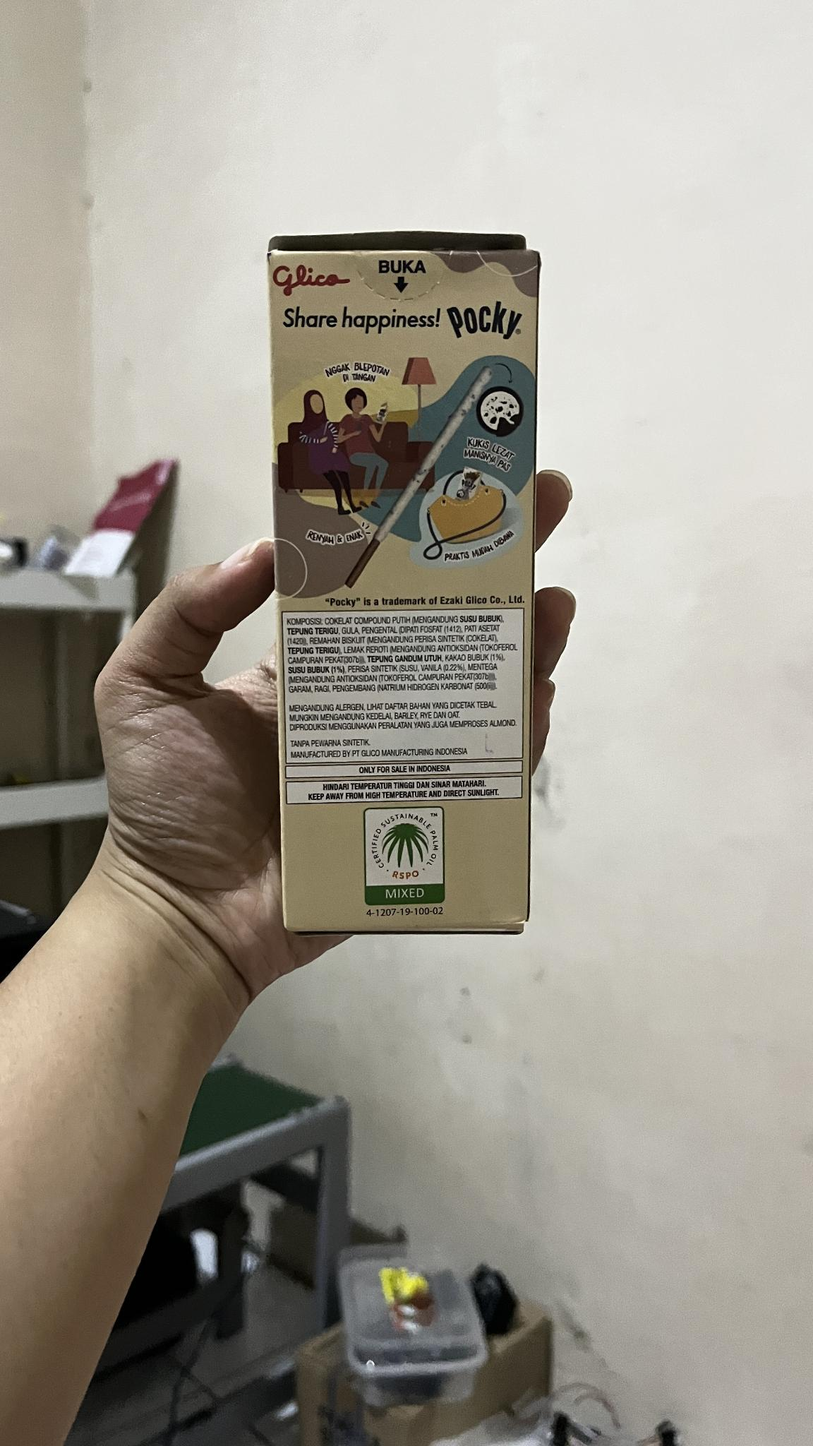Kertas: (265, 255, 552, 929)
